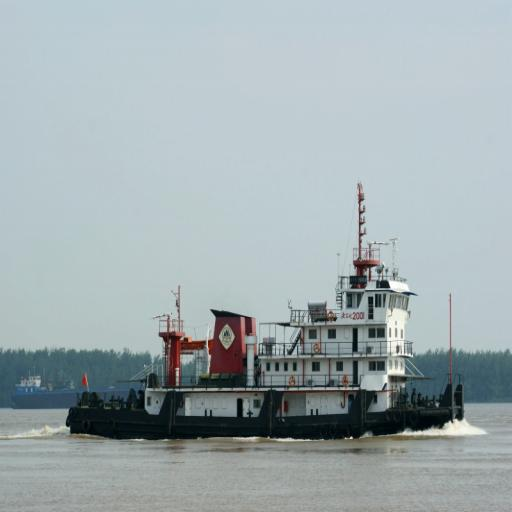tugboat: (64, 180, 468, 447)
